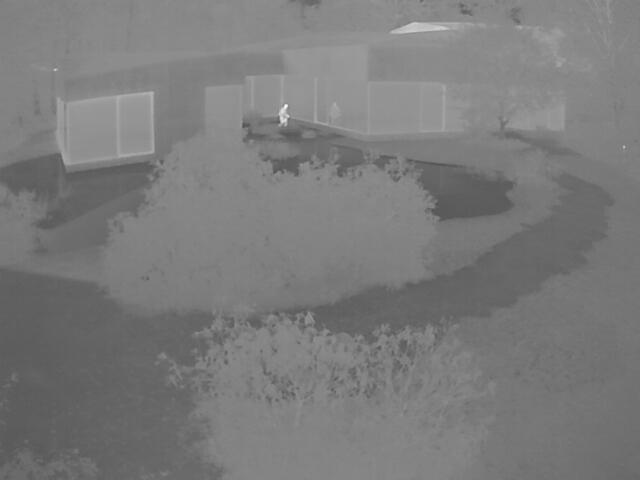person: (277, 102, 289, 129)
